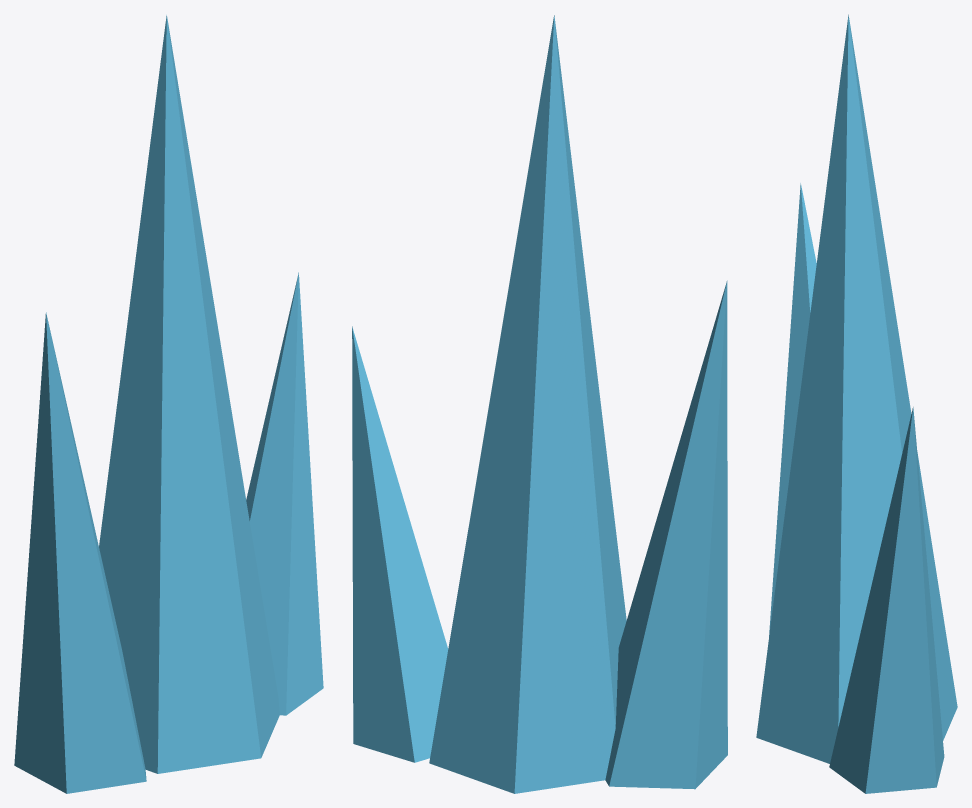
File: prism_crystal_spike.obj
3 renders of one model, left to right at view 1: azimuth 30°, elevation 25°; view 2: azimuth 150°, elevation 25°; view 3: azimuth 270°, elevation 25°, orthographic. The views are drawn at different scales.
Visible parts, largest first — view 1: PrismCrystalSpike; view 2: PrismCrystalSpike; view 3: PrismCrystalSpike.
Part boxes in pixels (x1,y1,x2,y2): PrismCrystalSpike: [14, 15, 323, 793]; PrismCrystalSpike: [352, 15, 727, 793]; PrismCrystalSpike: [756, 14, 957, 793].
Size of the model in its own units: 1.24 by 2.75 by 0.7156.
